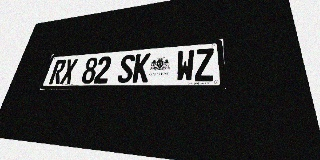2: (93, 56, 112, 83)
8: (80, 57, 99, 84)
K: (132, 53, 151, 83)
R: (49, 59, 67, 84)
S: (117, 54, 136, 83)
W: (175, 50, 194, 82)
X: (60, 59, 78, 84)
Z: (195, 48, 215, 81)
